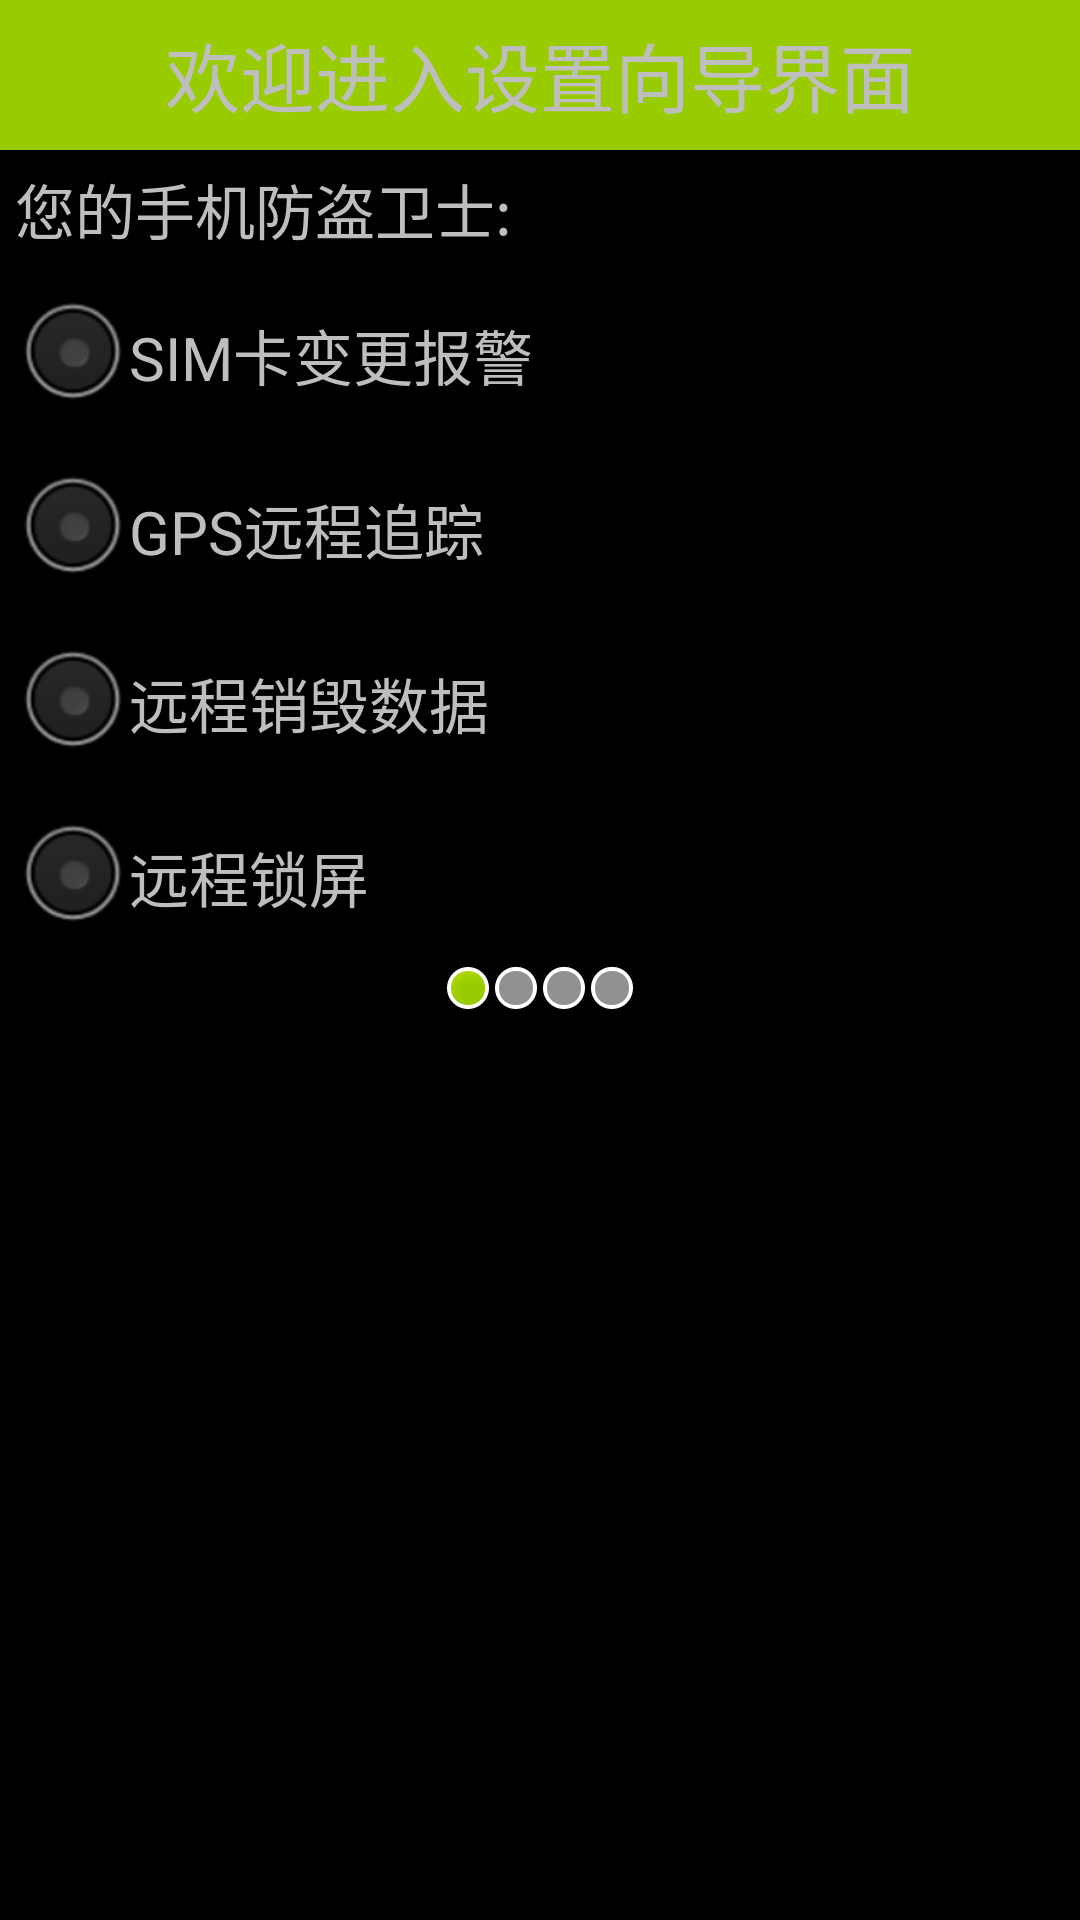

Point at icon controls on the screen. Image size 1080px x 1920px, points as point (x, y).
presence invisible: point (516, 987), point (564, 987), point (612, 987)
presence online: point (468, 988)
